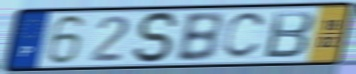2: (88, 14, 131, 63)
6: (44, 13, 89, 67)
B: (262, 9, 317, 60), (174, 10, 225, 63)
C: (220, 10, 269, 61)
S: (132, 10, 183, 65)
